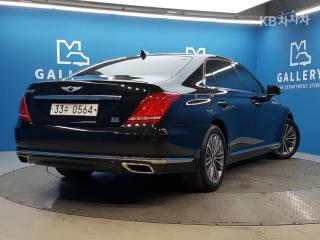0: (72, 105, 78, 114)
3: (59, 104, 64, 113), (54, 105, 59, 113)
4: (87, 105, 94, 114)
5: (77, 105, 82, 114)
6: (83, 105, 88, 115)
수: (64, 105, 69, 114)
